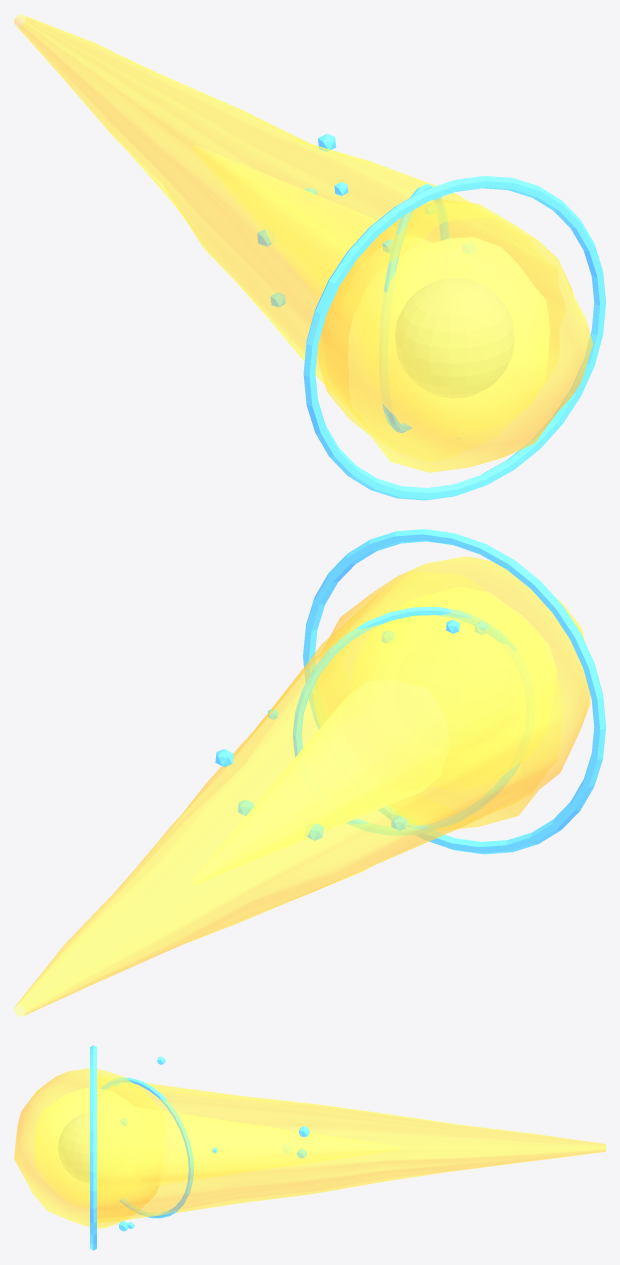
File: EMBERFANG_fireball_vfx.fbx
The picture shows the model from 3 angles, top to bottom: view 1: azimuth 30°, elevation 25°; view 2: azimuth 150°, elevation 25°; view 3: azimuth 270°, elevation 25°; orthographic projection. The views are drawn at different scales.
Visible parts, largest first — view 1: EMBERFANG_fireball_vfx; view 2: EMBERFANG_fireball_vfx; view 3: EMBERFANG_fireball_vfx.
Boxes of the visible parts, left/top/right/bottom form: EMBERFANG_fireball_vfx: left=14, top=14, right=605, bottom=500; EMBERFANG_fireball_vfx: left=14, top=529, right=605, bottom=1016; EMBERFANG_fireball_vfx: left=14, top=1045, right=605, bottom=1250.
Bounding box in the file's own units: 0.442 × 0.442 × 1.27.
